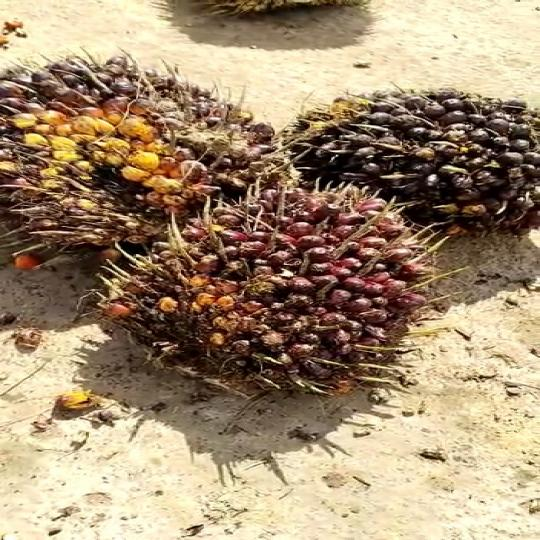kurang masak: (99, 178, 428, 408), (0, 58, 277, 281), (289, 87, 540, 234)
